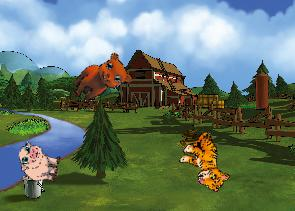bear: (67, 46, 137, 115)
pig: (14, 140, 63, 186)
tiger: (172, 127, 242, 195)
